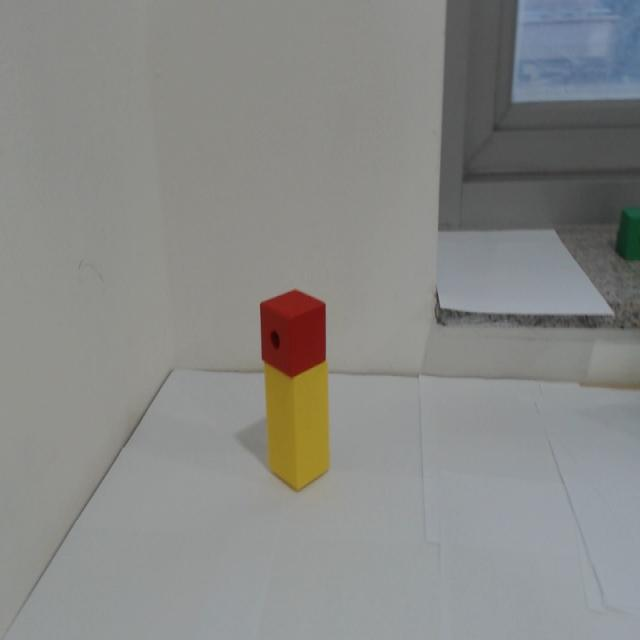cube: (260, 288, 329, 380)
